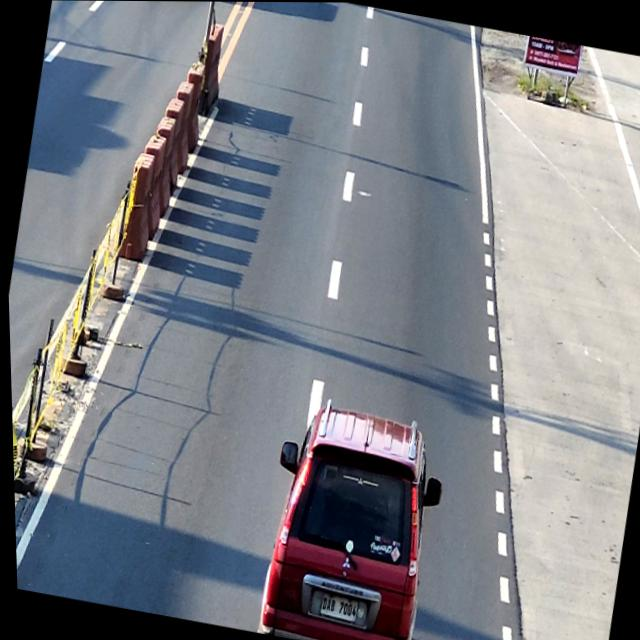Car: (243, 392, 453, 640)
License-Plate: (314, 591, 356, 624)
